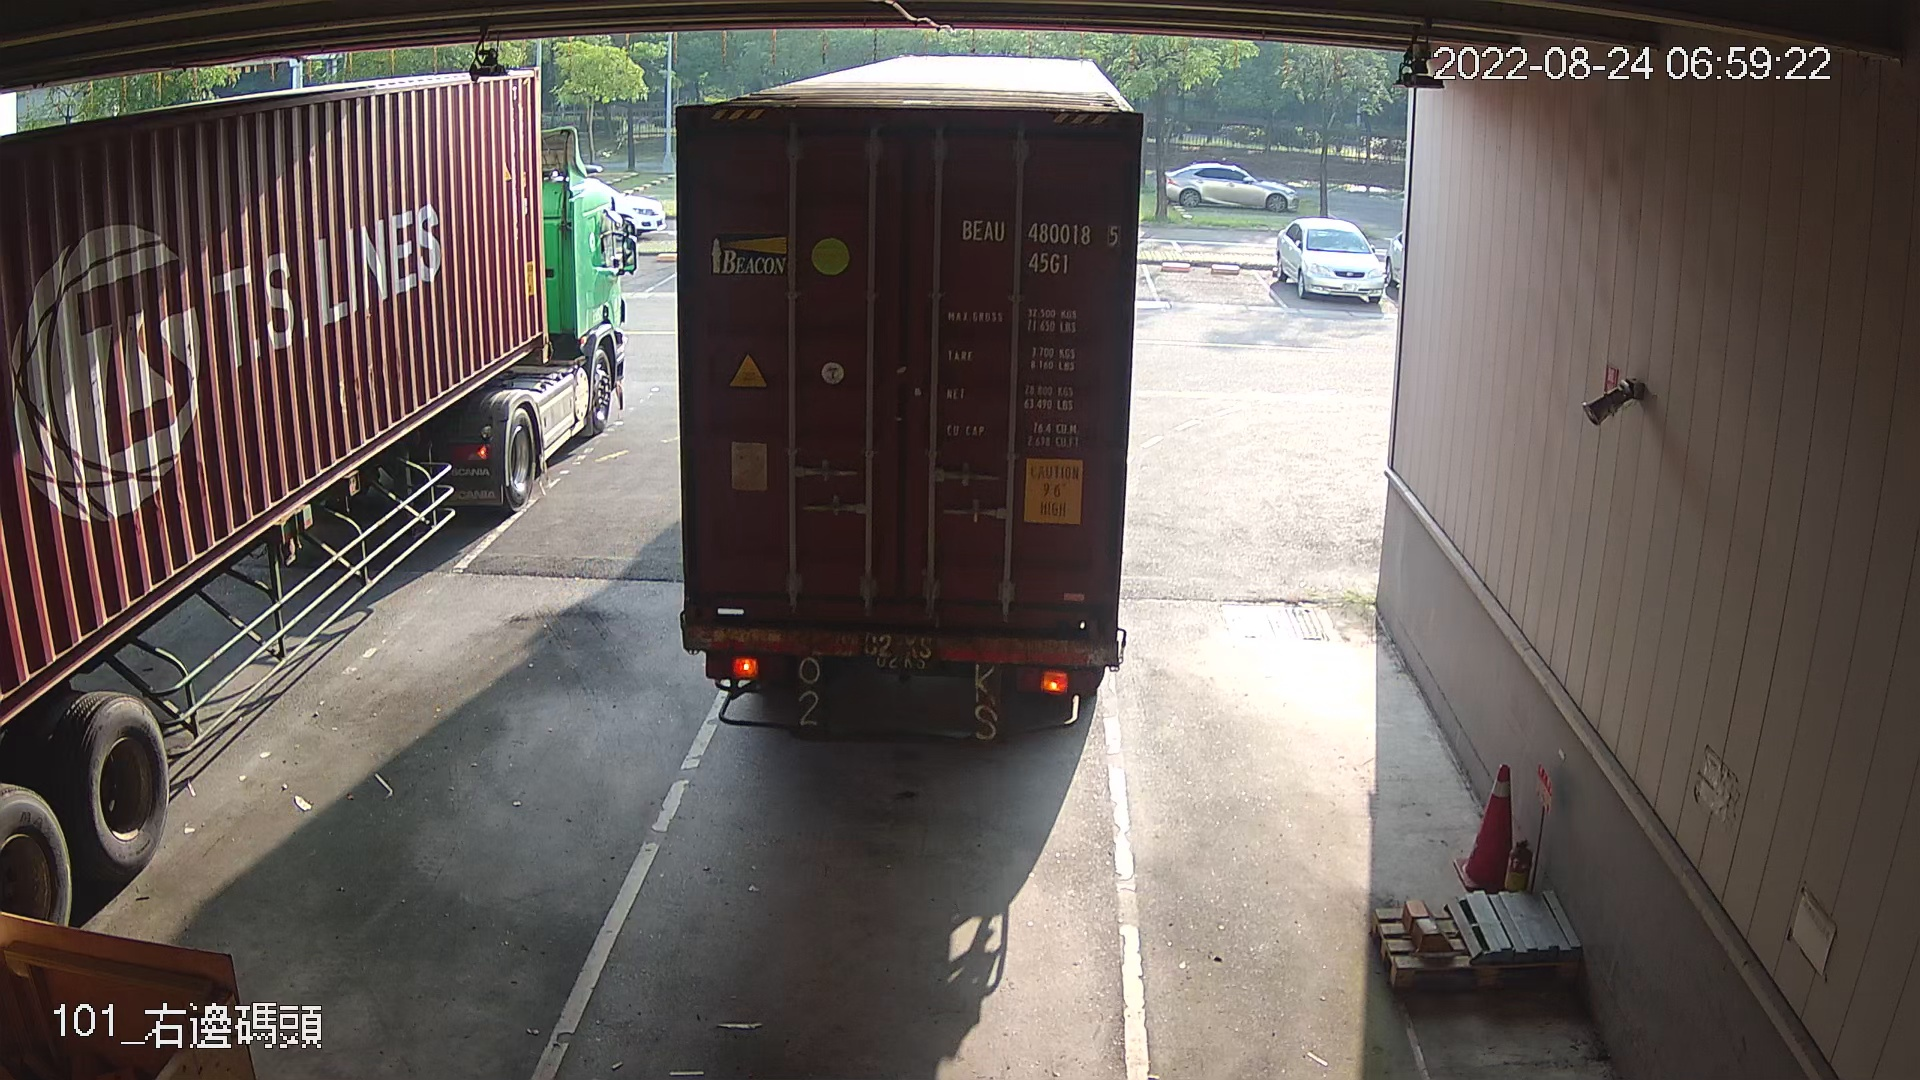container: (951, 207, 1129, 285)
